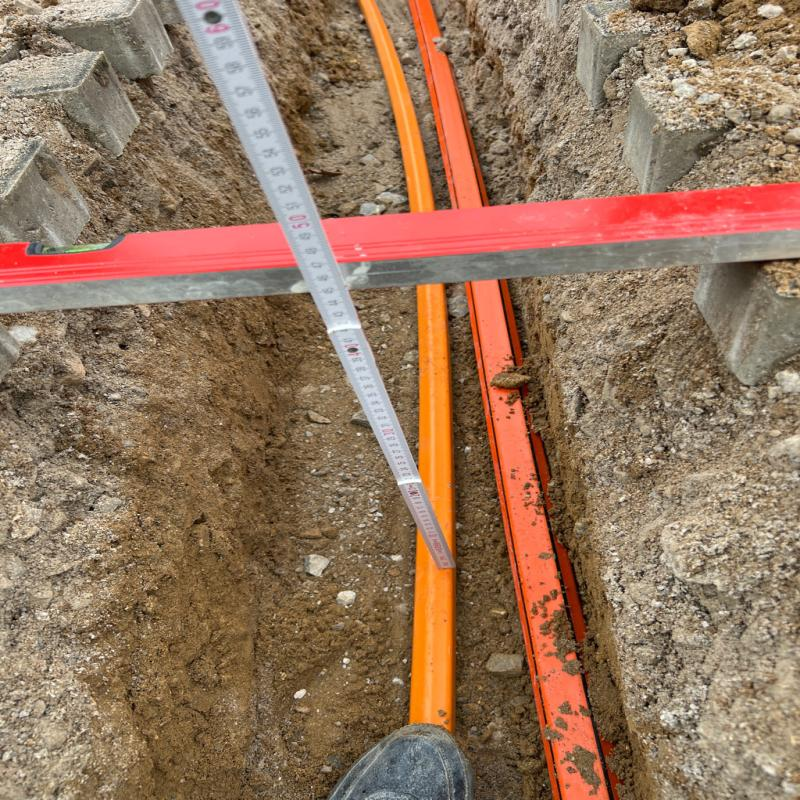Orang-Speednetrohrchen: (409, 4, 618, 793), (365, 5, 449, 722)
